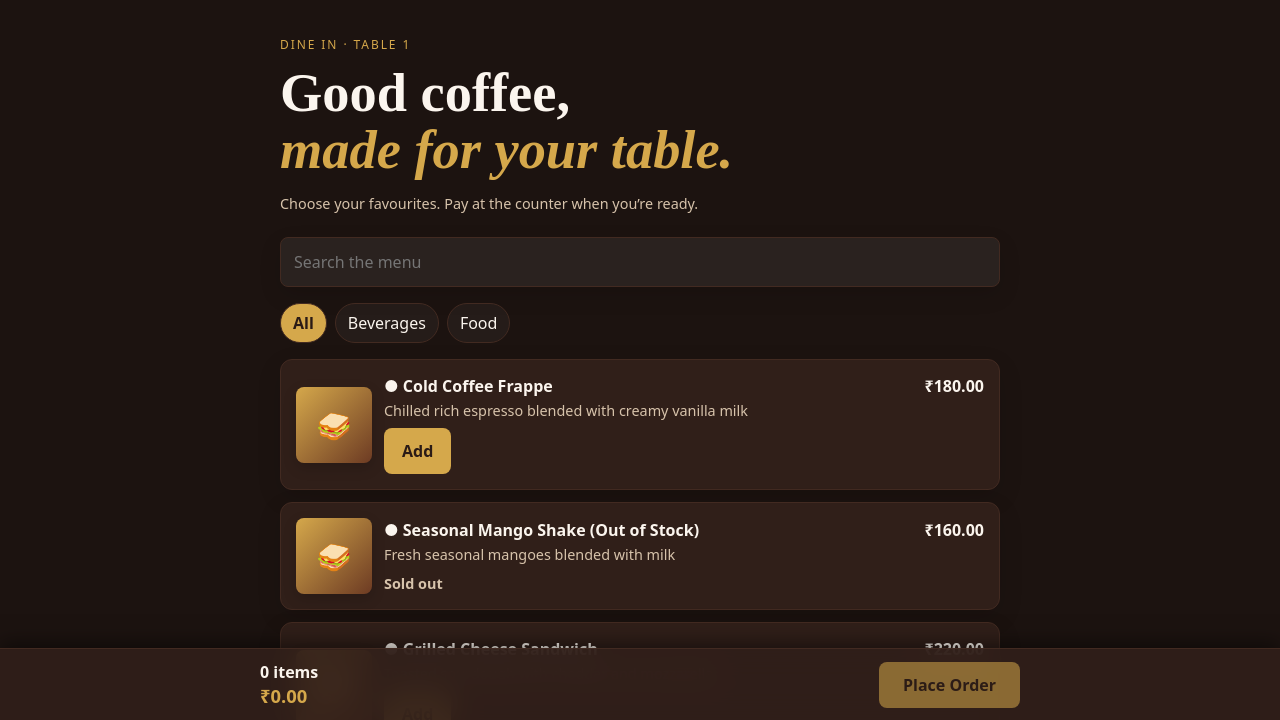
Test case: Pre-Deployment QA & Release Readiness Test Suite › Customer Ordering End-to-End › renders menu items and filters by category
Expected: the text "● Cold Coffee Frappe" is shown, [384,375,553,397]
Expected: the text "● Grilled Cheese Sandwich" is shown, [384,638,598,660]
Click the tab "Food": (479, 323) [447,303,510,343]
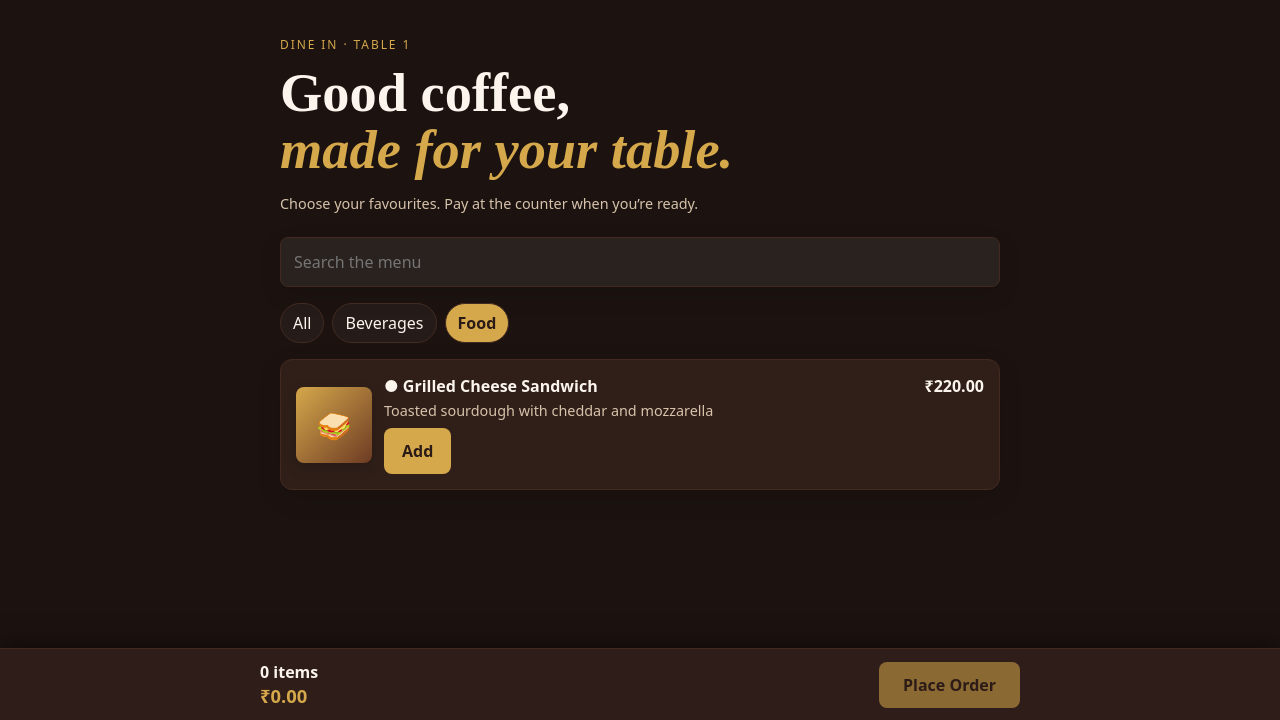
Expected: the text "● Grilled Cheese Sandwich" is shown, [384,375,598,397]
Result: the text "Cold Coffee Frappe" is gone
# Filter by All categories
Click the tab "All": (302, 323) [280,303,324,343]
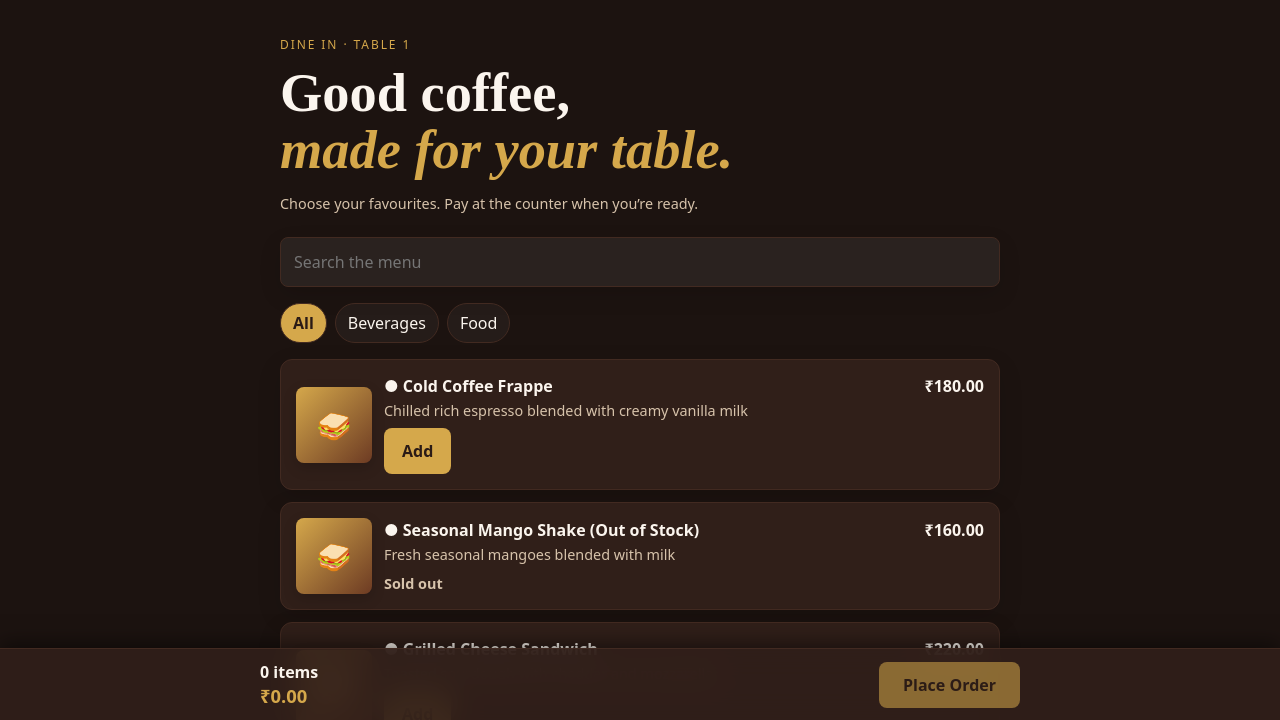
Expected: the text "● Grilled Cheese Sandwich" is shown, [384,638,598,660]
Result: the text "● Cold Coffee Frappe" is shown at [384,375,553,397]
